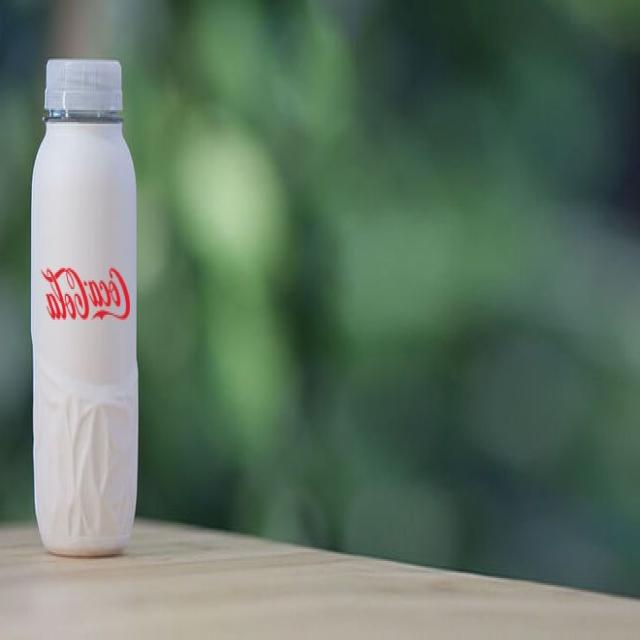coca cola: (37, 254, 136, 330)
